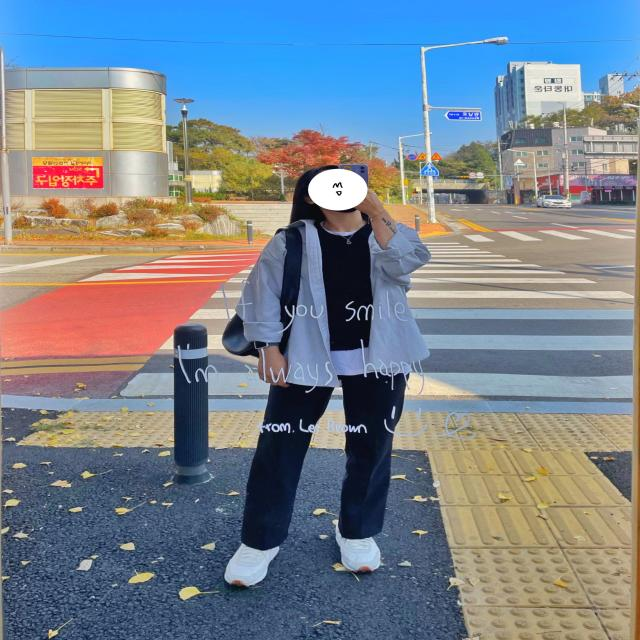shirt: (233, 213, 438, 382)
slacks: (241, 365, 410, 550)
